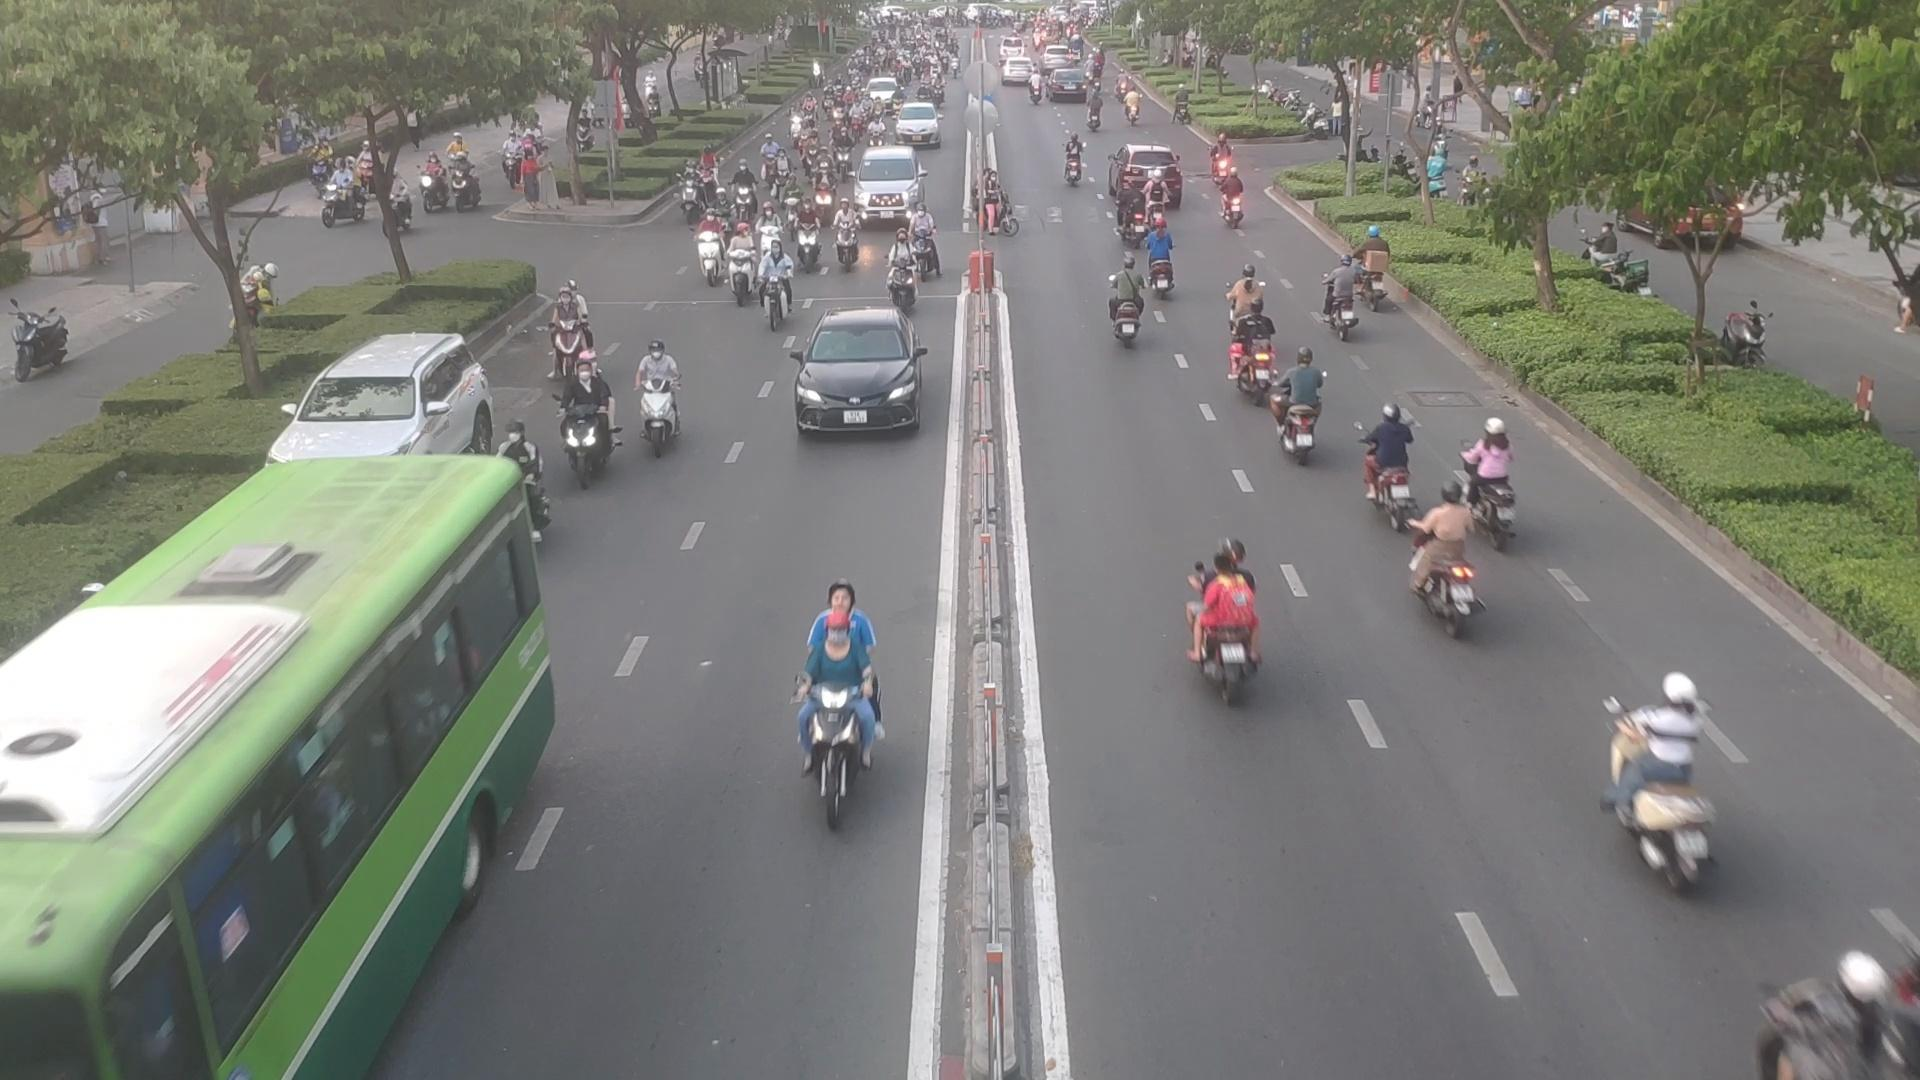bus: (0, 459, 556, 1080)
car: (273, 328, 509, 459), (786, 313, 922, 438)
motorbike: (1604, 678, 1735, 884), (785, 589, 899, 824), (1739, 938, 1912, 1076), (1184, 543, 1274, 698), (1408, 495, 1499, 632), (560, 349, 625, 485), (1456, 414, 1520, 521), (1360, 407, 1419, 518), (633, 340, 690, 454), (1270, 364, 1328, 456), (1226, 328, 1290, 404), (1104, 266, 1160, 349), (969, 171, 1023, 243), (1323, 256, 1367, 340), (1224, 270, 1278, 340), (546, 281, 589, 363), (754, 237, 793, 319), (1353, 222, 1393, 297), (1112, 183, 1156, 247), (694, 207, 729, 281), (1142, 232, 1180, 295), (890, 229, 919, 313), (731, 220, 757, 301), (1058, 140, 1092, 190)
